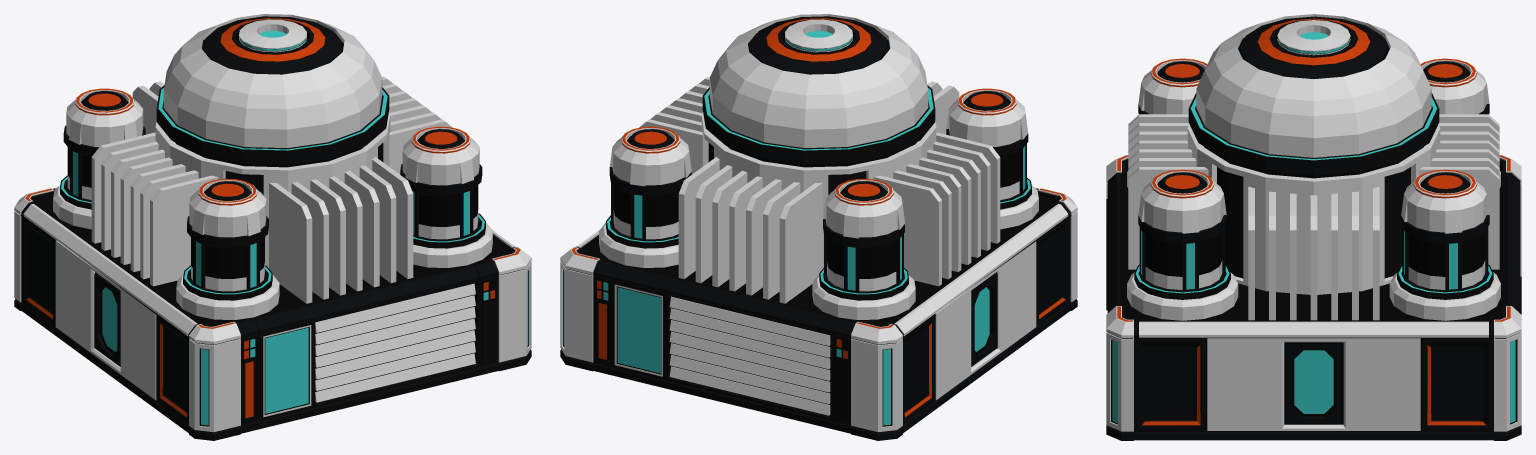
Rendered from SM_Nuclear_T3.obj.
The picture shows the model from 3 angles, left to right: view 1: azimuth 30°, elevation 25°; view 2: azimuth 150°, elevation 25°; view 3: azimuth 270°, elevation 25°; orthographic projection. The views are drawn at different scales.
Parts seen in each view (by area): view 1: SM_Nuclear_T3; view 2: SM_Nuclear_T3; view 3: SM_Nuclear_T3.
Part boxes in pixels (x1,y1,x2,y2): SM_Nuclear_T3: [14, 14, 531, 440]; SM_Nuclear_T3: [560, 14, 1077, 440]; SM_Nuclear_T3: [1106, 14, 1521, 440].
Size of the model in its own units: 3 by 2.56 by 3.
